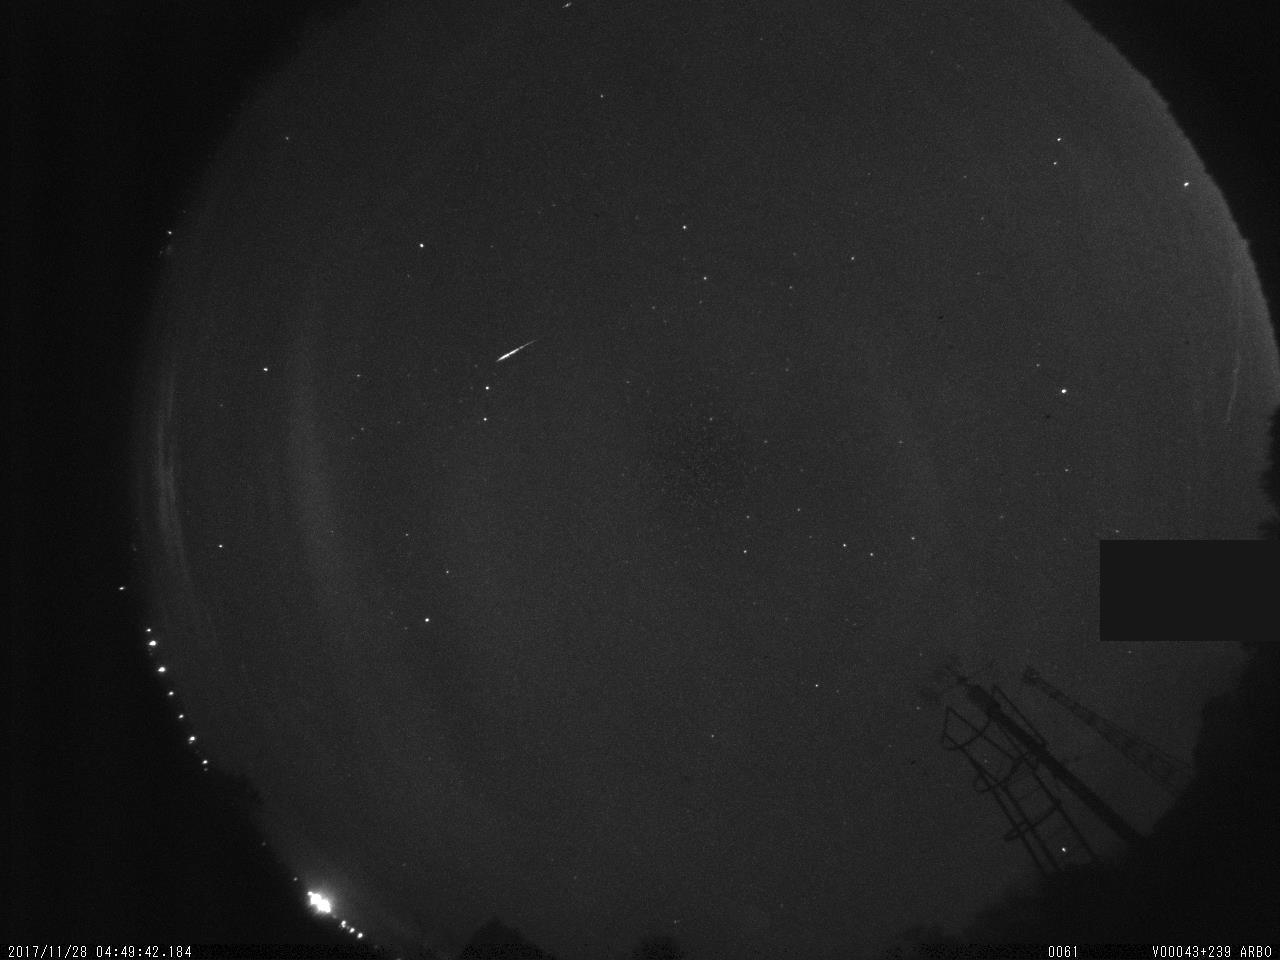meteor: (482, 329, 548, 370)
